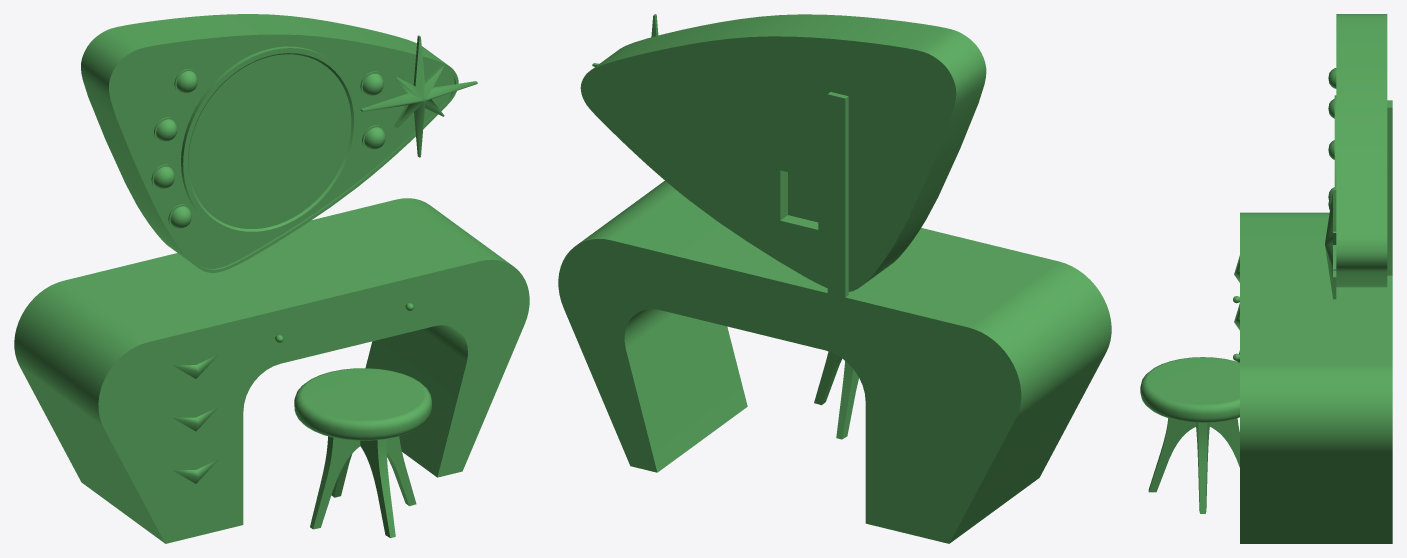
Rendered from SM_VanityDresser_01.fbx.
3 renders of one model, left to right at view 1: azimuth 30°, elevation 25°; view 2: azimuth 150°, elevation 25°; view 3: azimuth 270°, elevation 25°, orthographic. The views are drawn at different scales.
Parts seen in each view (by area): view 1: SM_VanityDresser_01; view 2: SM_VanityDresser_01; view 3: SM_VanityDresser_01.
Boxes of the visible parts, bbox=[...] form: SM_VanityDresser_01: bbox=[14, 14, 529, 543]; SM_VanityDresser_01: bbox=[558, 14, 1111, 543]; SM_VanityDresser_01: bbox=[1140, 14, 1392, 543].
Size of the model in its own units: 5.75 by 5.73 by 3.21.
